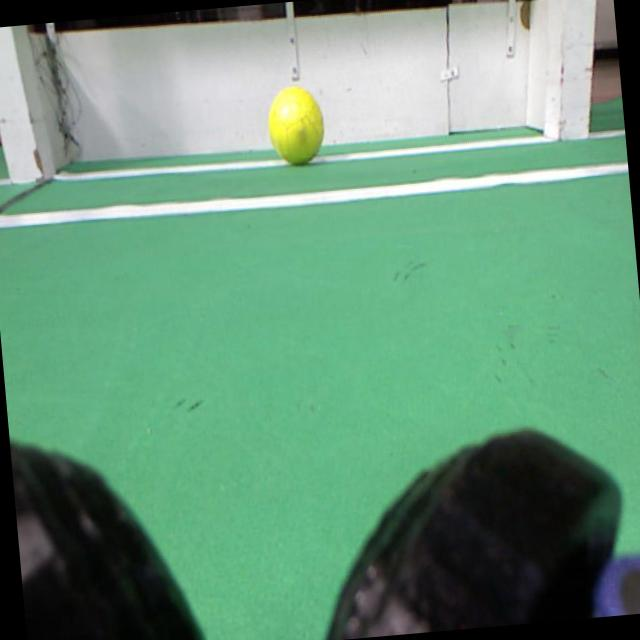ball: (268, 86, 323, 164)
goal: (0, 29, 42, 182), (561, 0, 595, 138)
